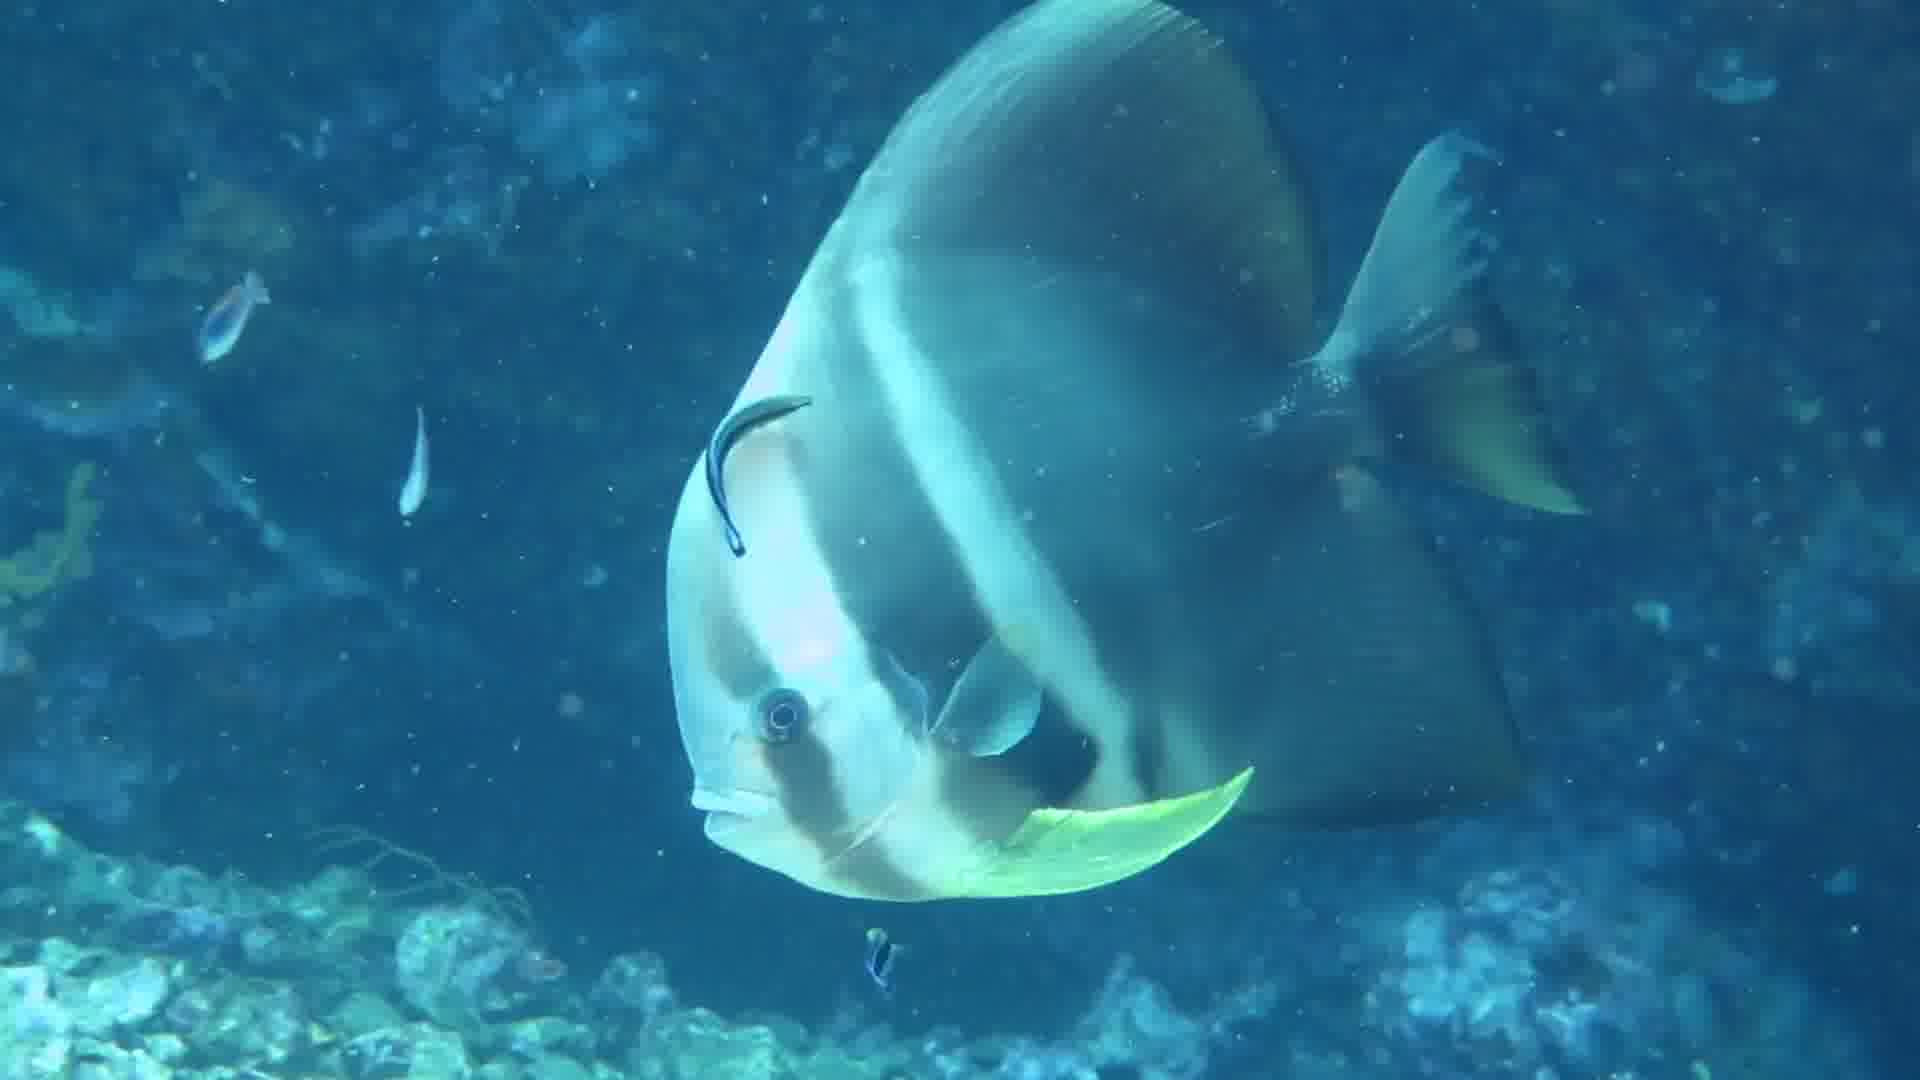Platax teira: (556, 1, 1633, 930)
